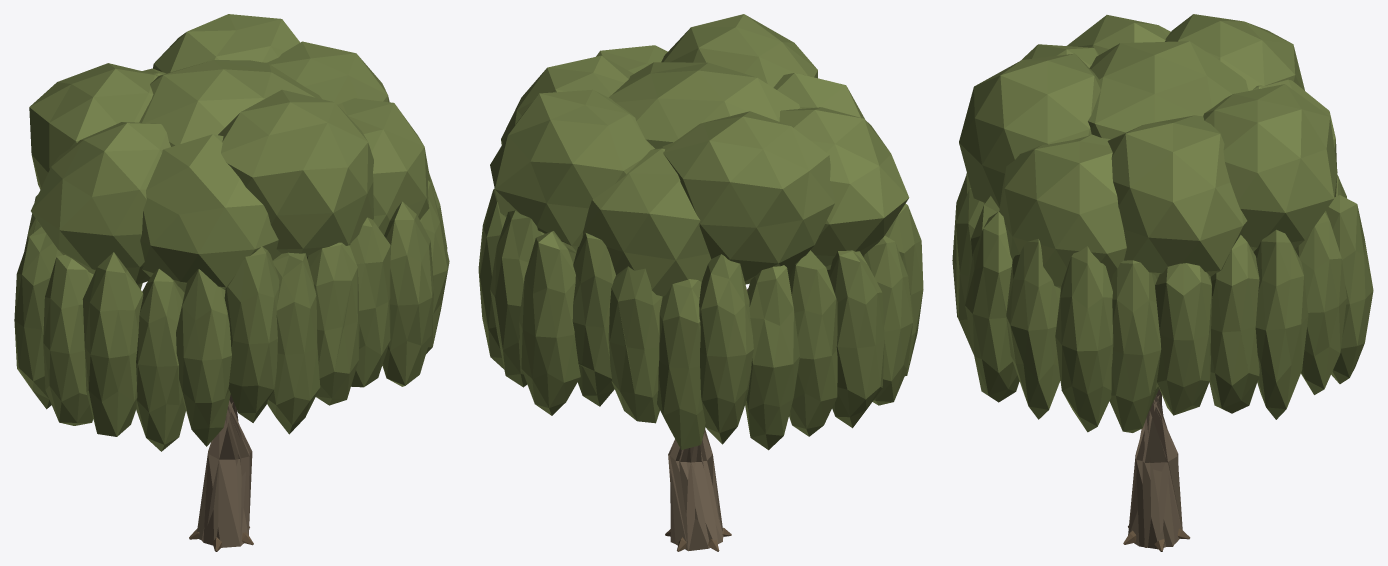
The model's file is willow.glb.
The picture shows the model from 3 angles, left to right: view 1: azimuth 30°, elevation 25°; view 2: azimuth 150°, elevation 25°; view 3: azimuth 270°, elevation 25°; orthographic projection. The views are drawn at different scales.
Visible parts, largest first — view 1: willow_detail, willow_medium, willow_far; view 2: willow_detail, willow_medium, willow_far; view 3: willow_detail, willow_medium, willow_far.
Part boxes in pixels (left/top/right/bottom): willow_detail: left=14, top=14, right=449, bottom=551; willow_medium: left=197, top=180, right=376, bottom=545; willow_far: left=207, top=394, right=245, bottom=542; willow_detail: left=478, top=14, right=923, bottom=551; willow_medium: left=503, top=214, right=747, bottom=543; willow_far: left=668, top=429, right=719, bottom=551; willow_detail: left=952, top=14, right=1373, bottom=551; willow_medium: left=956, top=210, right=1326, bottom=547; willow_far: left=1128, top=395, right=1181, bottom=534.
Size of the model in its own units: 6.6 by 7.81 by 6.15.
